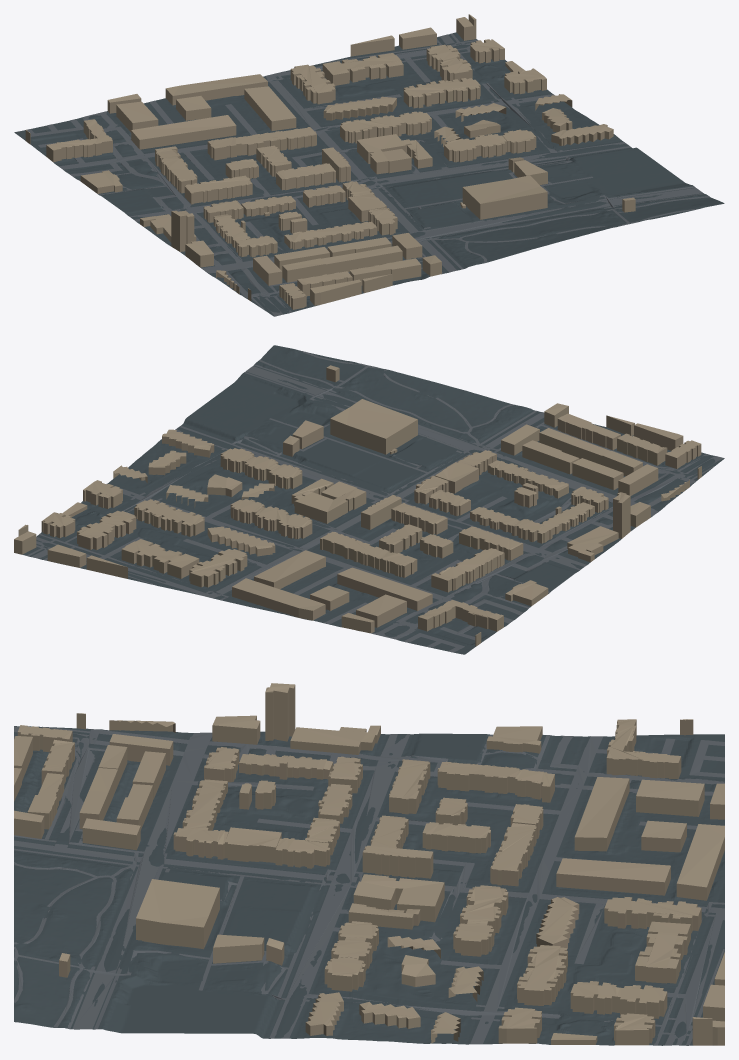
Rendered from epsg26910-1433-10889.lod0.glb.
3 renders of one model, top to bottom at view 1: azimuth 30°, elevation 25°; view 2: azimuth 150°, elevation 25°; view 3: azimuth 270°, elevation 25°, orthographic. The views are drawn at different scales.
Visible parts, largest first — view 1: epsg26910-1433-10889-lod0; view 2: epsg26910-1433-10889-lod0; view 3: epsg26910-1433-10889-lod0.
Part boxes in pixels (x1=…): epsg26910-1433-10889-lod0: x1=14, y1=14, x2=724, y2=316; epsg26910-1433-10889-lod0: x1=14, y1=345, x2=724, y2=654; epsg26910-1433-10889-lod0: x1=14, y1=683, x2=724, y2=1045.
Size of the model in its own units: 384 by 37.11 by 384.
